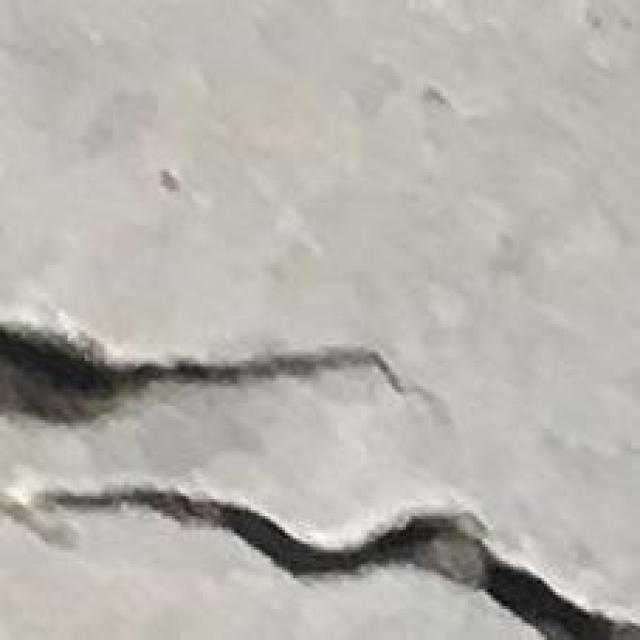Crack: (0, 279, 637, 626), (0, 454, 640, 617)
